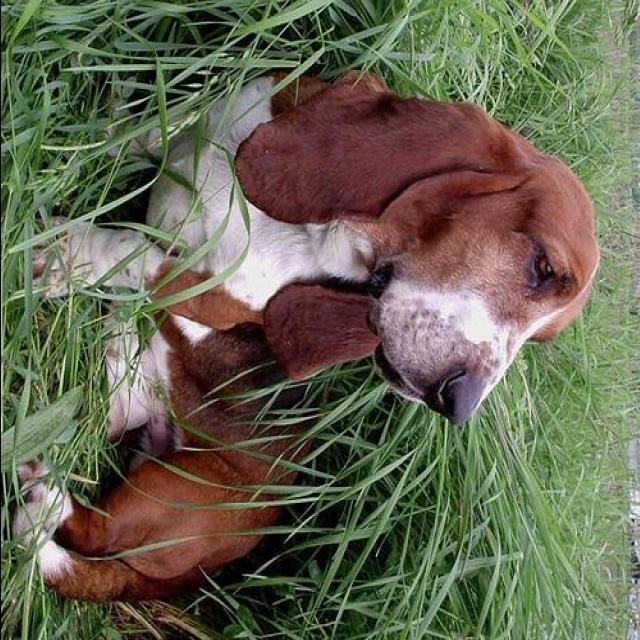basset: (4, 67, 604, 604)
